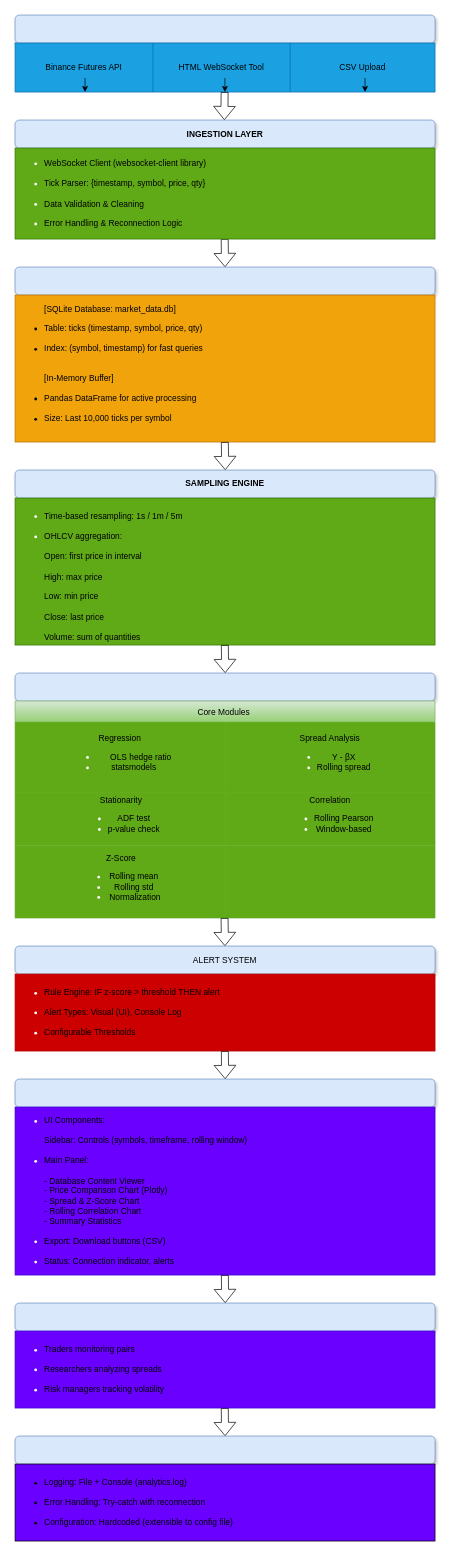
This 452x1553 diagram has some shape labels left out. Each missing label, with the centre of its shape:
ANALYTICS ENGINE: (x=225, y=688)
DATA SOURCES: (x=225, y=30)
STORAGE LAYER: (x=225, y=282)
STREAMLIT FRONTEND: (x=225, y=1094)
SUPPORTING SERVICES: (x=225, y=1451)
USER: (x=225, y=1318)
